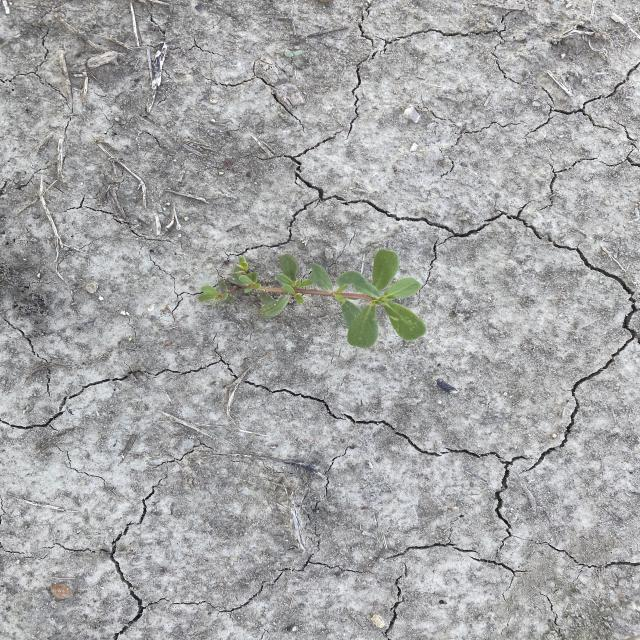Purslane: (194, 247, 428, 350)
